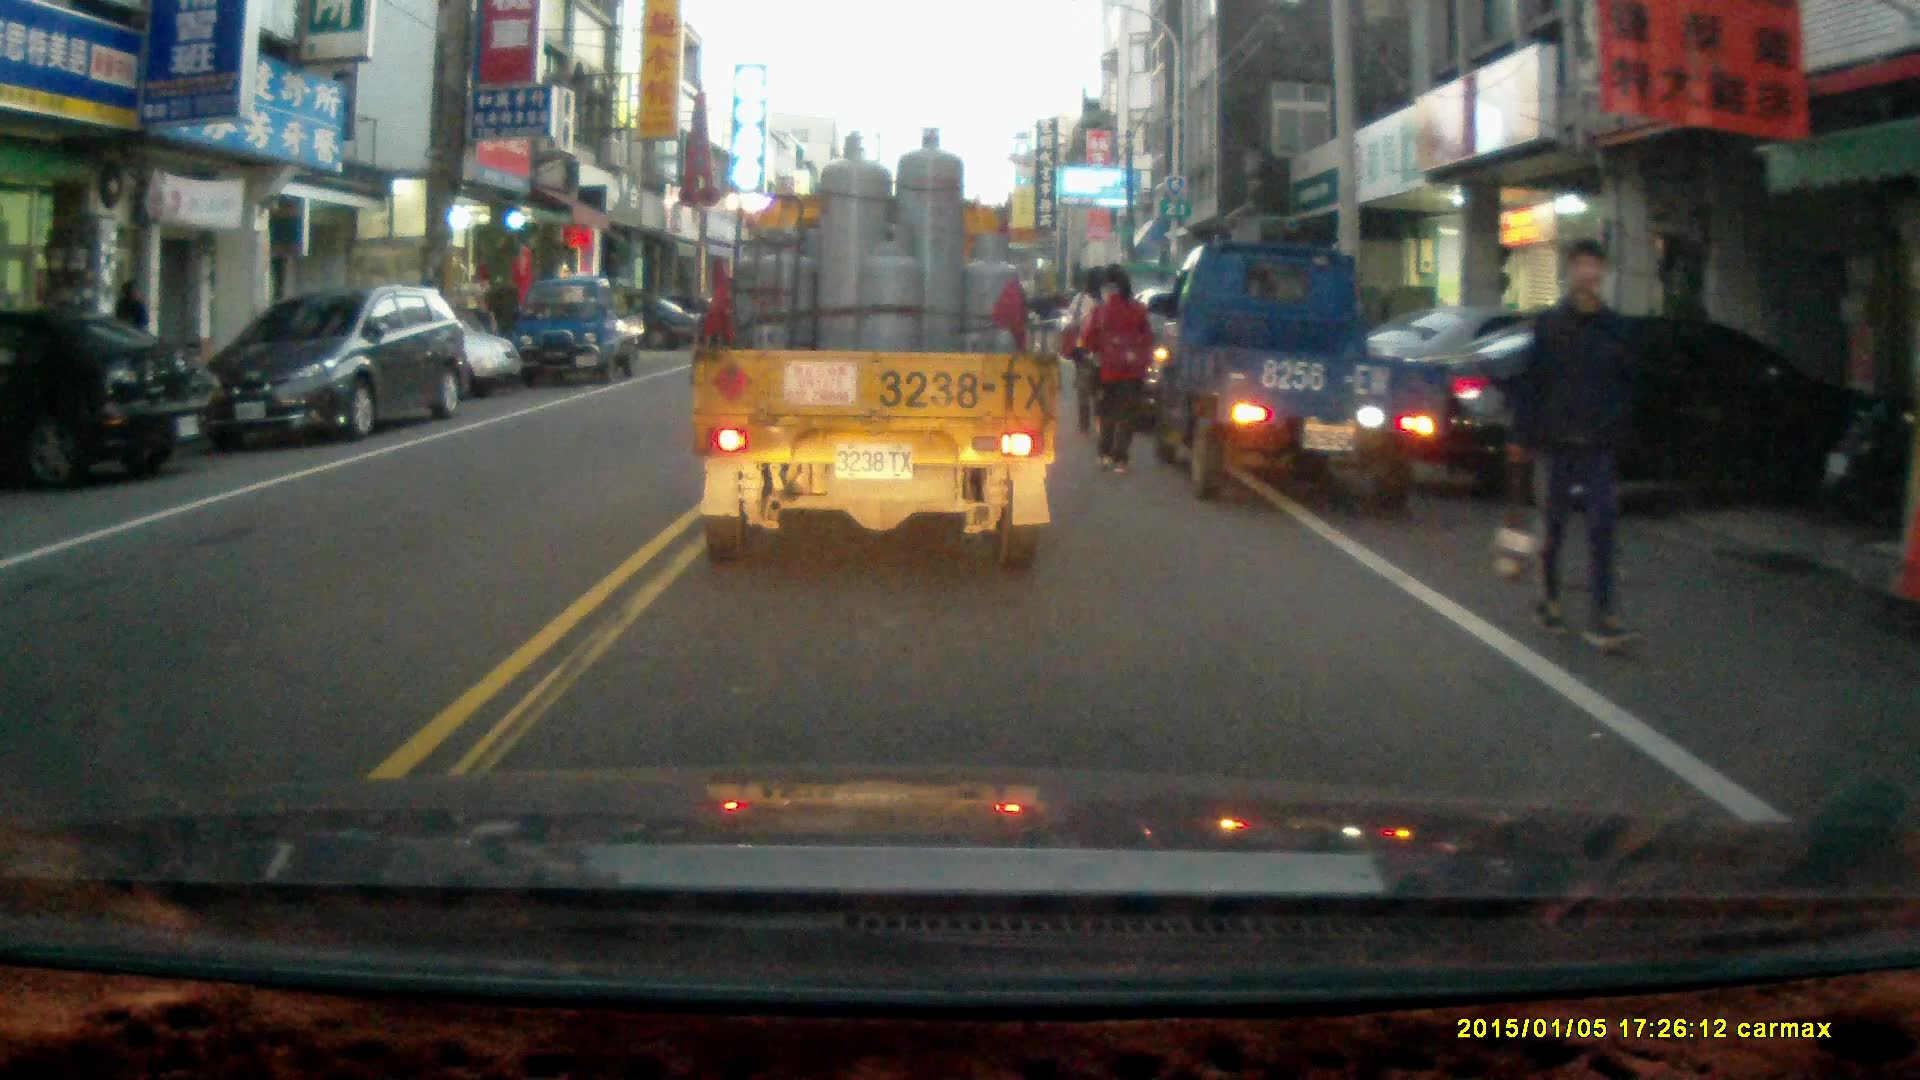pedestrian: (1507, 234, 1657, 655), (1077, 262, 1154, 472), (1063, 264, 1122, 432), (112, 277, 156, 379)
vehicle: (690, 132, 1063, 575), (1156, 243, 1454, 509), (193, 281, 476, 450), (1, 306, 221, 485), (255, 294, 524, 403), (515, 272, 648, 385)
